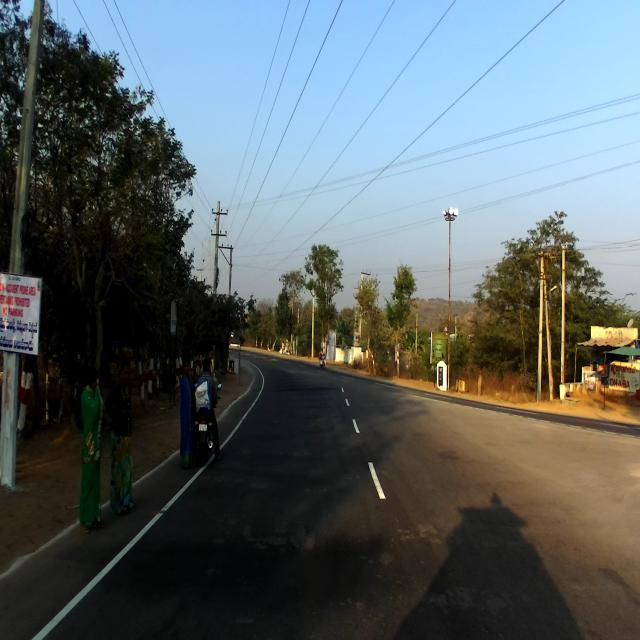motorcycle ahead at: (196, 396, 220, 466)
person ahead at: (74, 354, 108, 539)
